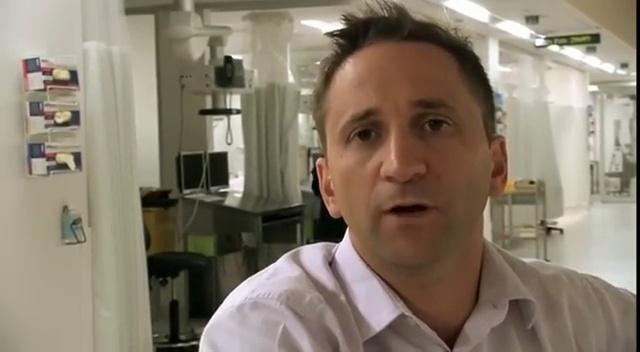others: (194, 1, 636, 351)
